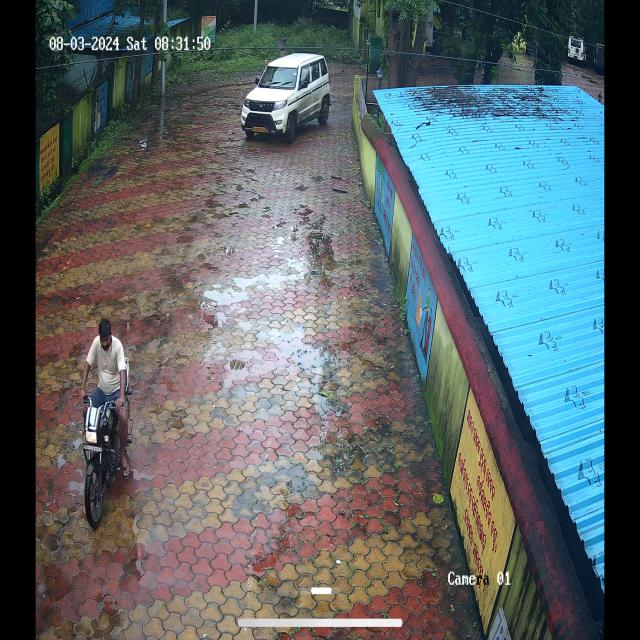light_vehicle: (241, 51, 326, 134)
